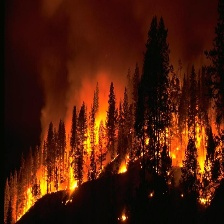fire: (157, 128, 219, 185), (64, 169, 82, 204), (16, 184, 33, 220), (116, 159, 132, 175), (199, 195, 212, 210), (116, 211, 130, 222)
smoke: (17, 2, 220, 112)
